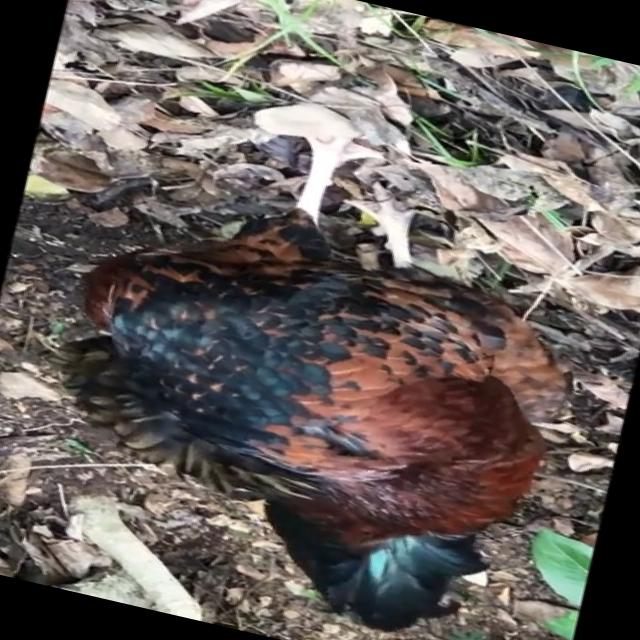self preening: (24, 84, 583, 640)
